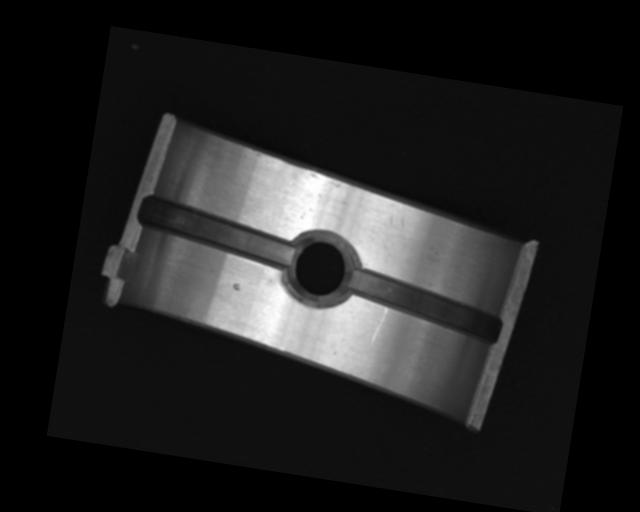bruise: (231, 282, 242, 291)
gap: (342, 266, 506, 344), (134, 194, 300, 268)
hole: (281, 225, 362, 313)
nick: (369, 305, 388, 347)
